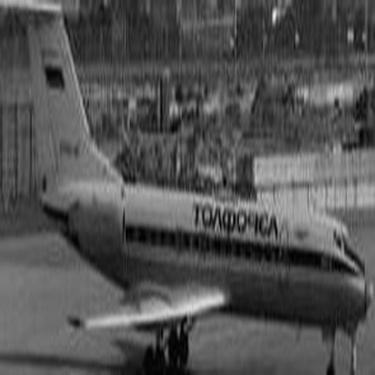airplane: (7, 4, 370, 370)
